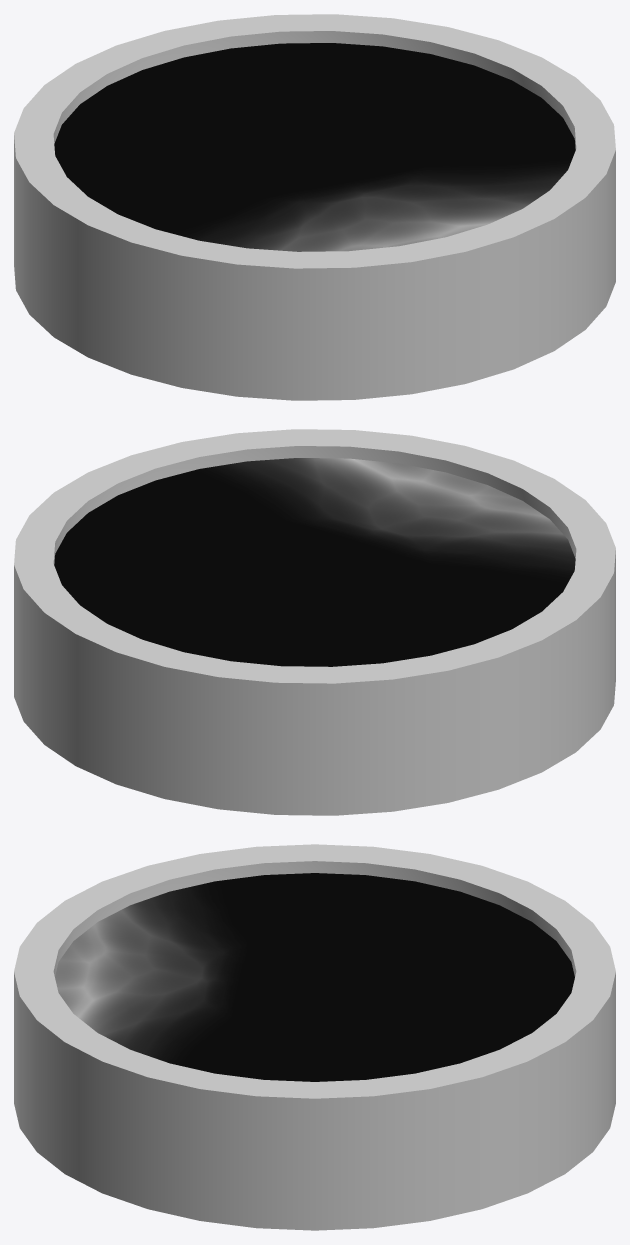
Rendered from pool.fbx.
The picture shows the model from 3 angles, top to bottom: view 1: azimuth 30°, elevation 25°; view 2: azimuth 150°, elevation 25°; view 3: azimuth 270°, elevation 25°; orthographic projection.
Visible parts, largest first — view 1: Cylinder, poolcircle; view 2: Cylinder, poolcircle; view 3: Cylinder, poolcircle.
Part boxes in pixels (x1,y1,x2,y2): Cylinder: [14, 14, 615, 400]; poolcircle: [54, 43, 575, 251]; Cylinder: [14, 429, 615, 815]; poolcircle: [54, 458, 575, 666]; Cylinder: [14, 844, 615, 1230]; poolcircle: [55, 873, 574, 1081].
Size of the model in its own units: 6.03 by 1.46 by 6.03.
